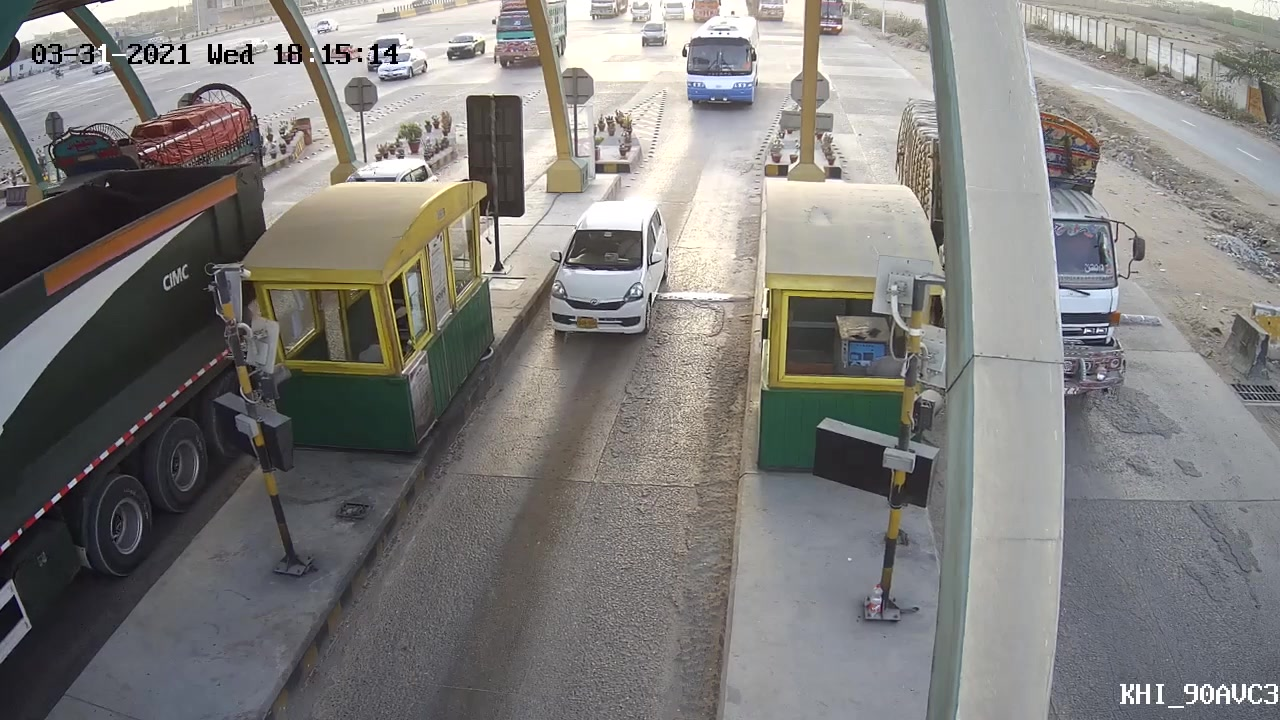F1: (545, 199, 672, 347)
